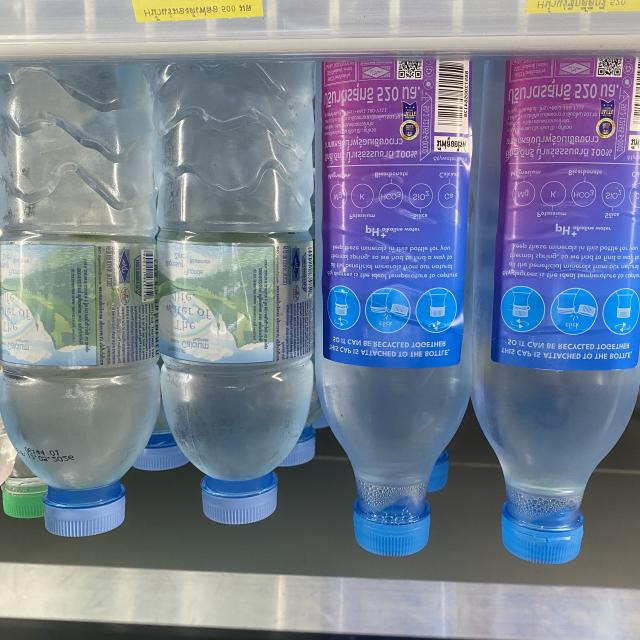plastik: (473, 58, 640, 563), (315, 59, 474, 556), (0, 65, 159, 537), (154, 62, 314, 524)
